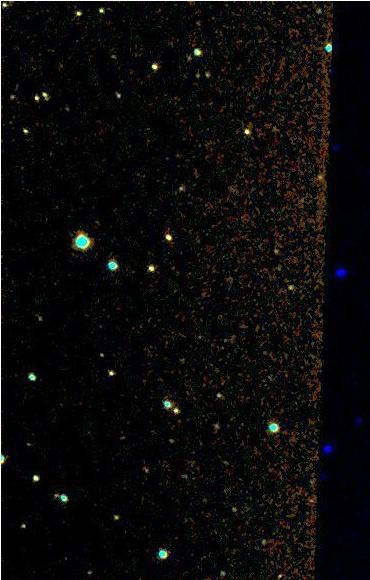star: (265, 560, 295, 580)
